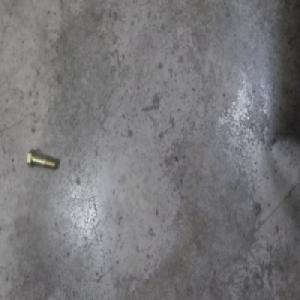Bolt: (27, 152, 58, 178)
